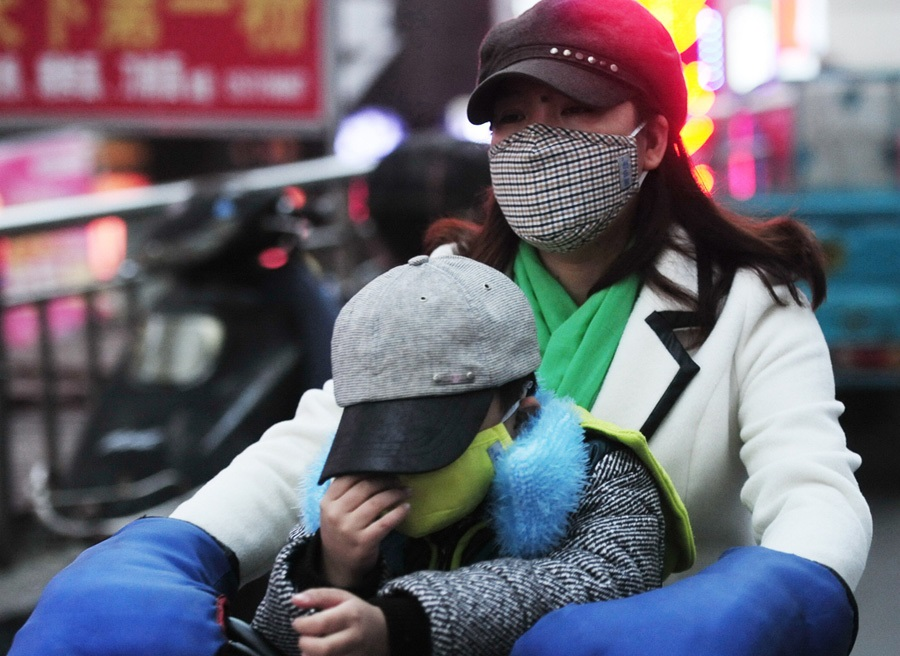face_mask: (488, 81, 641, 252), (370, 410, 521, 538)
